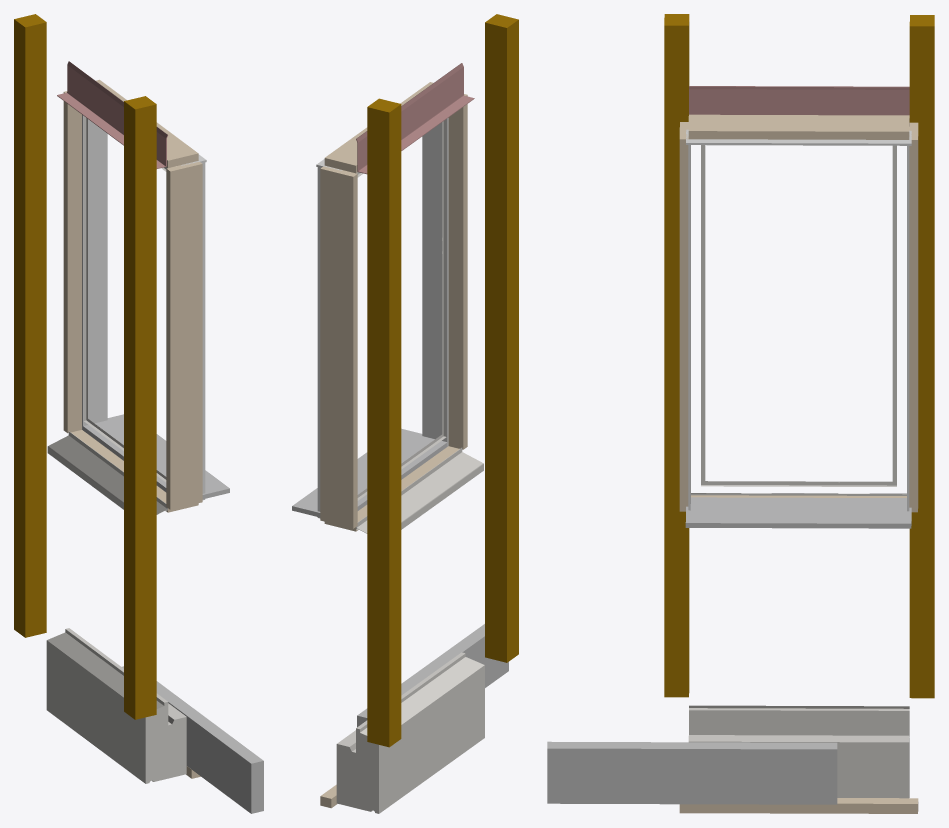
3 renders of one model, left to right at view 1: azimuth 30°, elevation 25°; view 2: azimuth 150°, elevation 25°; view 3: azimuth 270°, elevation 25°, orthographic. The views are drawn at different scales.
Size of the model in its own units: 0.5431 by 3.38 by 1.56.
